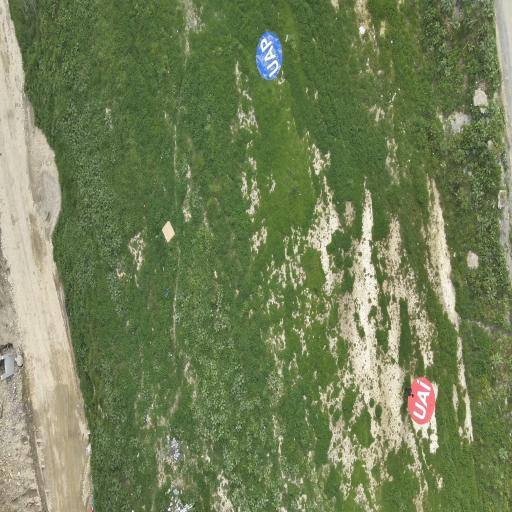UAI: (408, 377, 435, 424)
UAP: (256, 32, 282, 80)
person: (405, 387, 414, 398)
